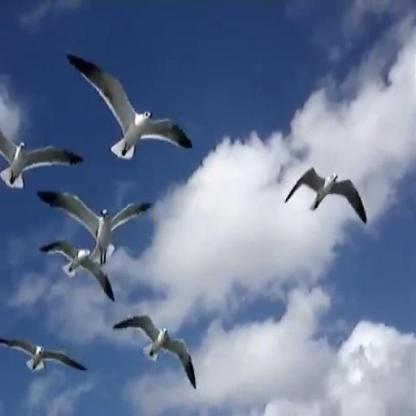bird: (68, 39, 198, 159), (36, 187, 154, 258), (108, 317, 202, 388), (0, 119, 84, 193), (283, 167, 369, 226), (40, 242, 124, 301), (0, 330, 87, 385)
